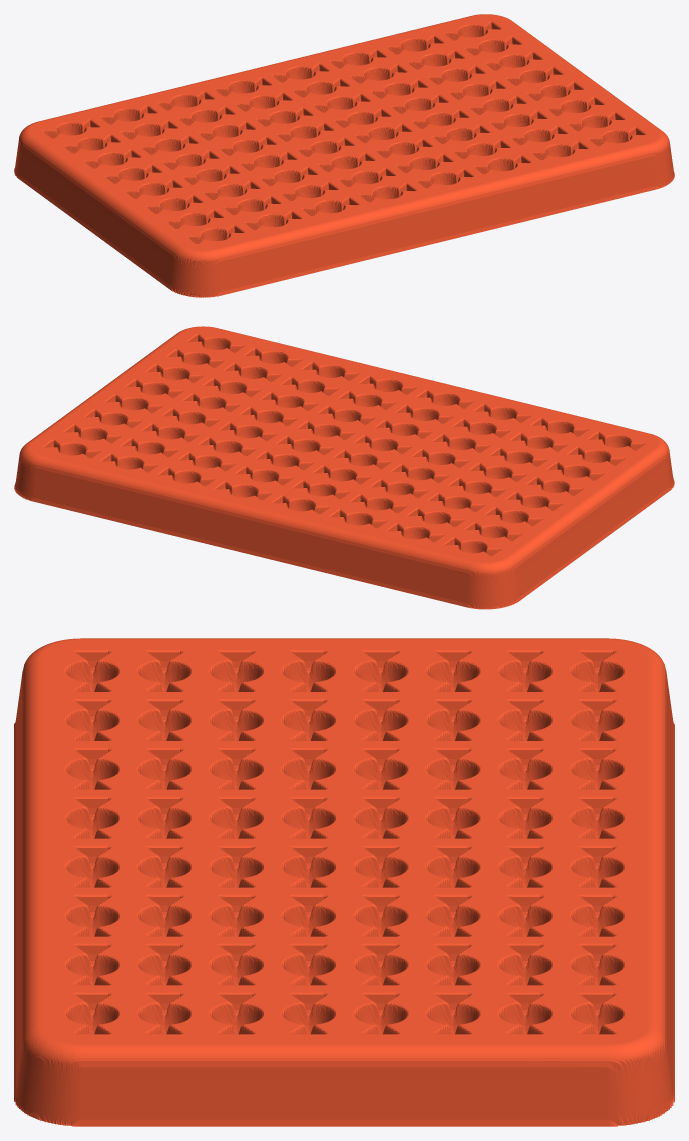
File: mold.glb
3 renders of one model, top to bottom at view 1: azimuth 30°, elevation 25°; view 2: azimuth 150°, elevation 25°; view 3: azimuth 270°, elevation 25°, orthographic. The views are drawn at different scales.
Visible parts, largest first — view 1: geometry_0; view 2: geometry_0; view 3: geometry_0.
Boxes of the visible parts, x1,y1,x2,y2 form: geometry_0: (14,14,674,297); geometry_0: (14,326,674,609); geometry_0: (14,638,674,1126).
Bounding box in the file's own units: 0.1355 × 0.0105 × 0.0887.
